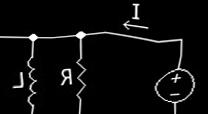Battery: (149, 63, 198, 105)
